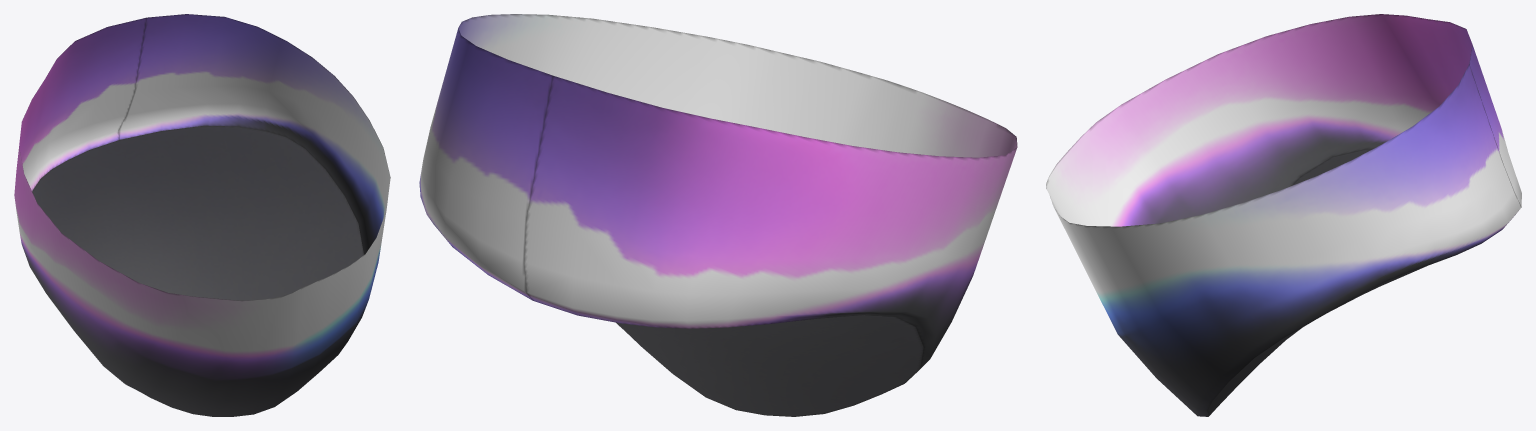
Rendered from oculus_quest_plus_controller_left_trigger.obj.
The picture shows the model from 3 angles, left to right: view 1: azimuth 30°, elevation 25°; view 2: azimuth 150°, elevation 25°; view 3: azimuth 270°, elevation 25°; orthographic projection. The views are drawn at different scales.
Visible parts, largest first — view 1: oculus_quest_plus_controller_left_trigger; view 2: oculus_quest_plus_controller_left_trigger; view 3: oculus_quest_plus_controller_left_trigger.
Part boxes in pixels (x1,y1,x2,y2): oculus_quest_plus_controller_left_trigger: (14, 14, 390, 416); oculus_quest_plus_controller_left_trigger: (419, 14, 1017, 416); oculus_quest_plus_controller_left_trigger: (1046, 14, 1521, 416).
Bounding box in the file's own units: 0.0315 × 0.0277 × 0.0342.
1 material, 1 textured.
